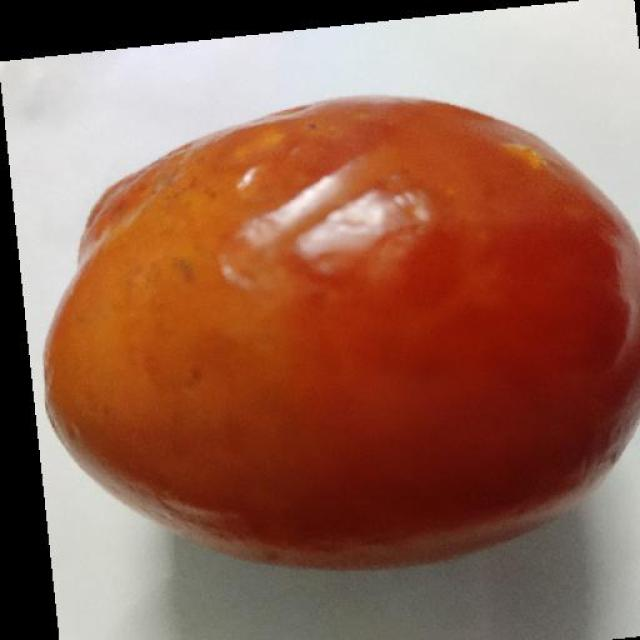Stale_tomato: (37, 112, 640, 534)
